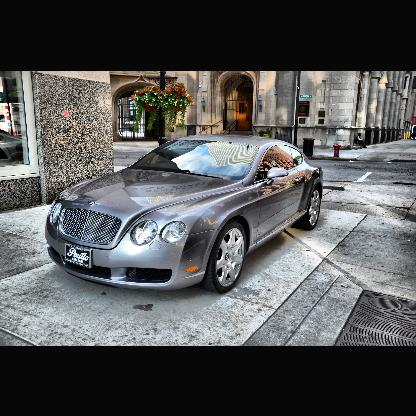Bentley Continental GT Coupe 2007: (44, 131, 326, 299)
